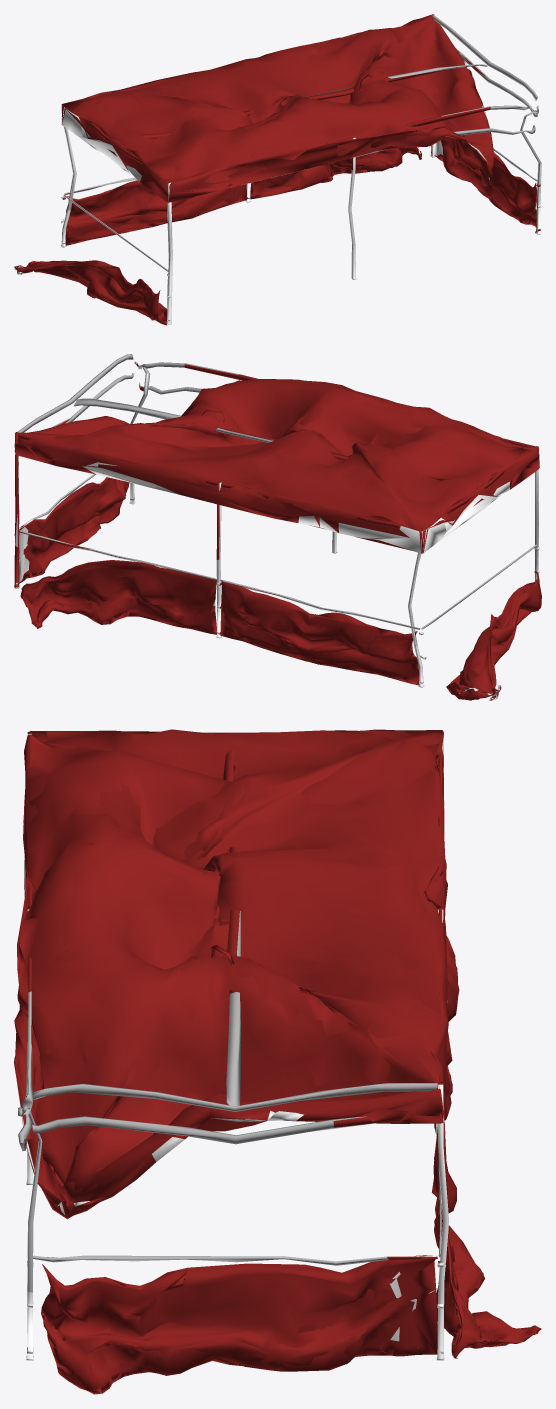
The model's file is Display_Tent_Red_Broken_decimated_point2.fbx.
3 renders of one model, top to bottom at view 1: azimuth 30°, elevation 25°; view 2: azimuth 150°, elevation 25°; view 3: azimuth 270°, elevation 25°, orthographic. The views are drawn at different scales.
Visible parts, largest first — view 1: Display_Tent; view 2: Display_Tent; view 3: Display_Tent.
Boxes of the visible parts, left/top/right/bottom form: Display_Tent: left=14, top=14, right=541, bottom=325; Display_Tent: left=14, top=354, right=541, bottom=700; Display_Tent: left=14, top=729, right=541, bottom=1394.
Size of the model in its own units: 239 by 94.51 by 126.
